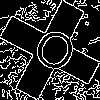O: (25, 25, 81, 84)
